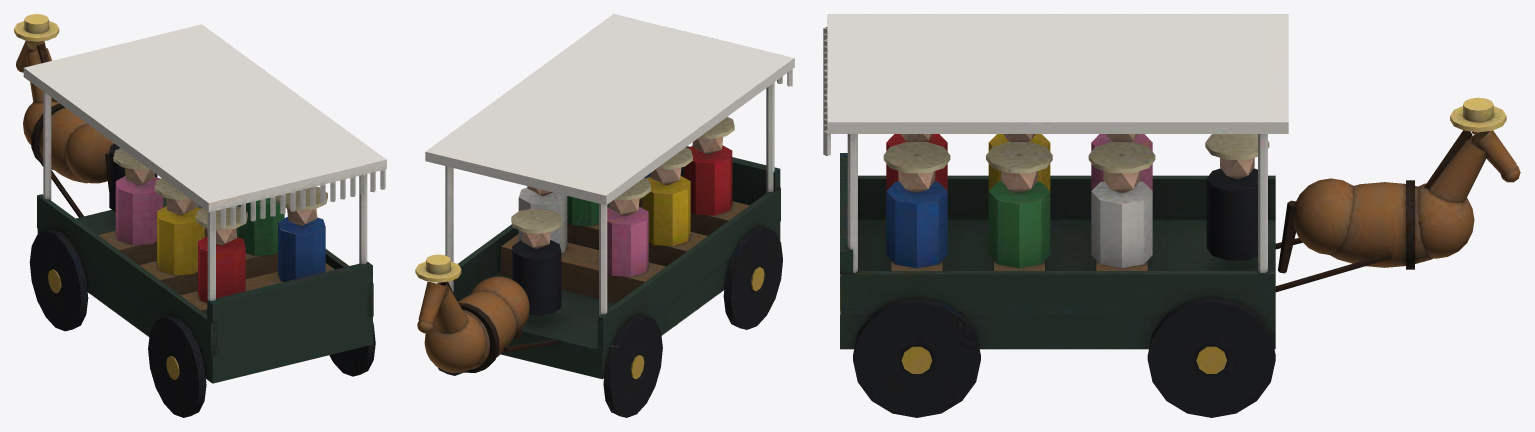
Rendered from calesa_tour.glb.
The picture shows the model from 3 angles, left to right: view 1: azimuth 30°, elevation 25°; view 2: azimuth 150°, elevation 25°; view 3: azimuth 270°, elevation 25°; orthographic projection. The views are drawn at different scales.
Visible parts, largest first — view 1: calesa_tour; view 2: calesa_tour; view 3: calesa_tour.
Part boxes in pixels (bbox=[...]): calesa_tour: bbox=[14, 14, 386, 417]; calesa_tour: bbox=[415, 14, 794, 417]; calesa_tour: bbox=[823, 14, 1520, 417].
Bounding box in the file's own units: 2.01 × 2.55 × 5.44.
1 material, 1 textured.
